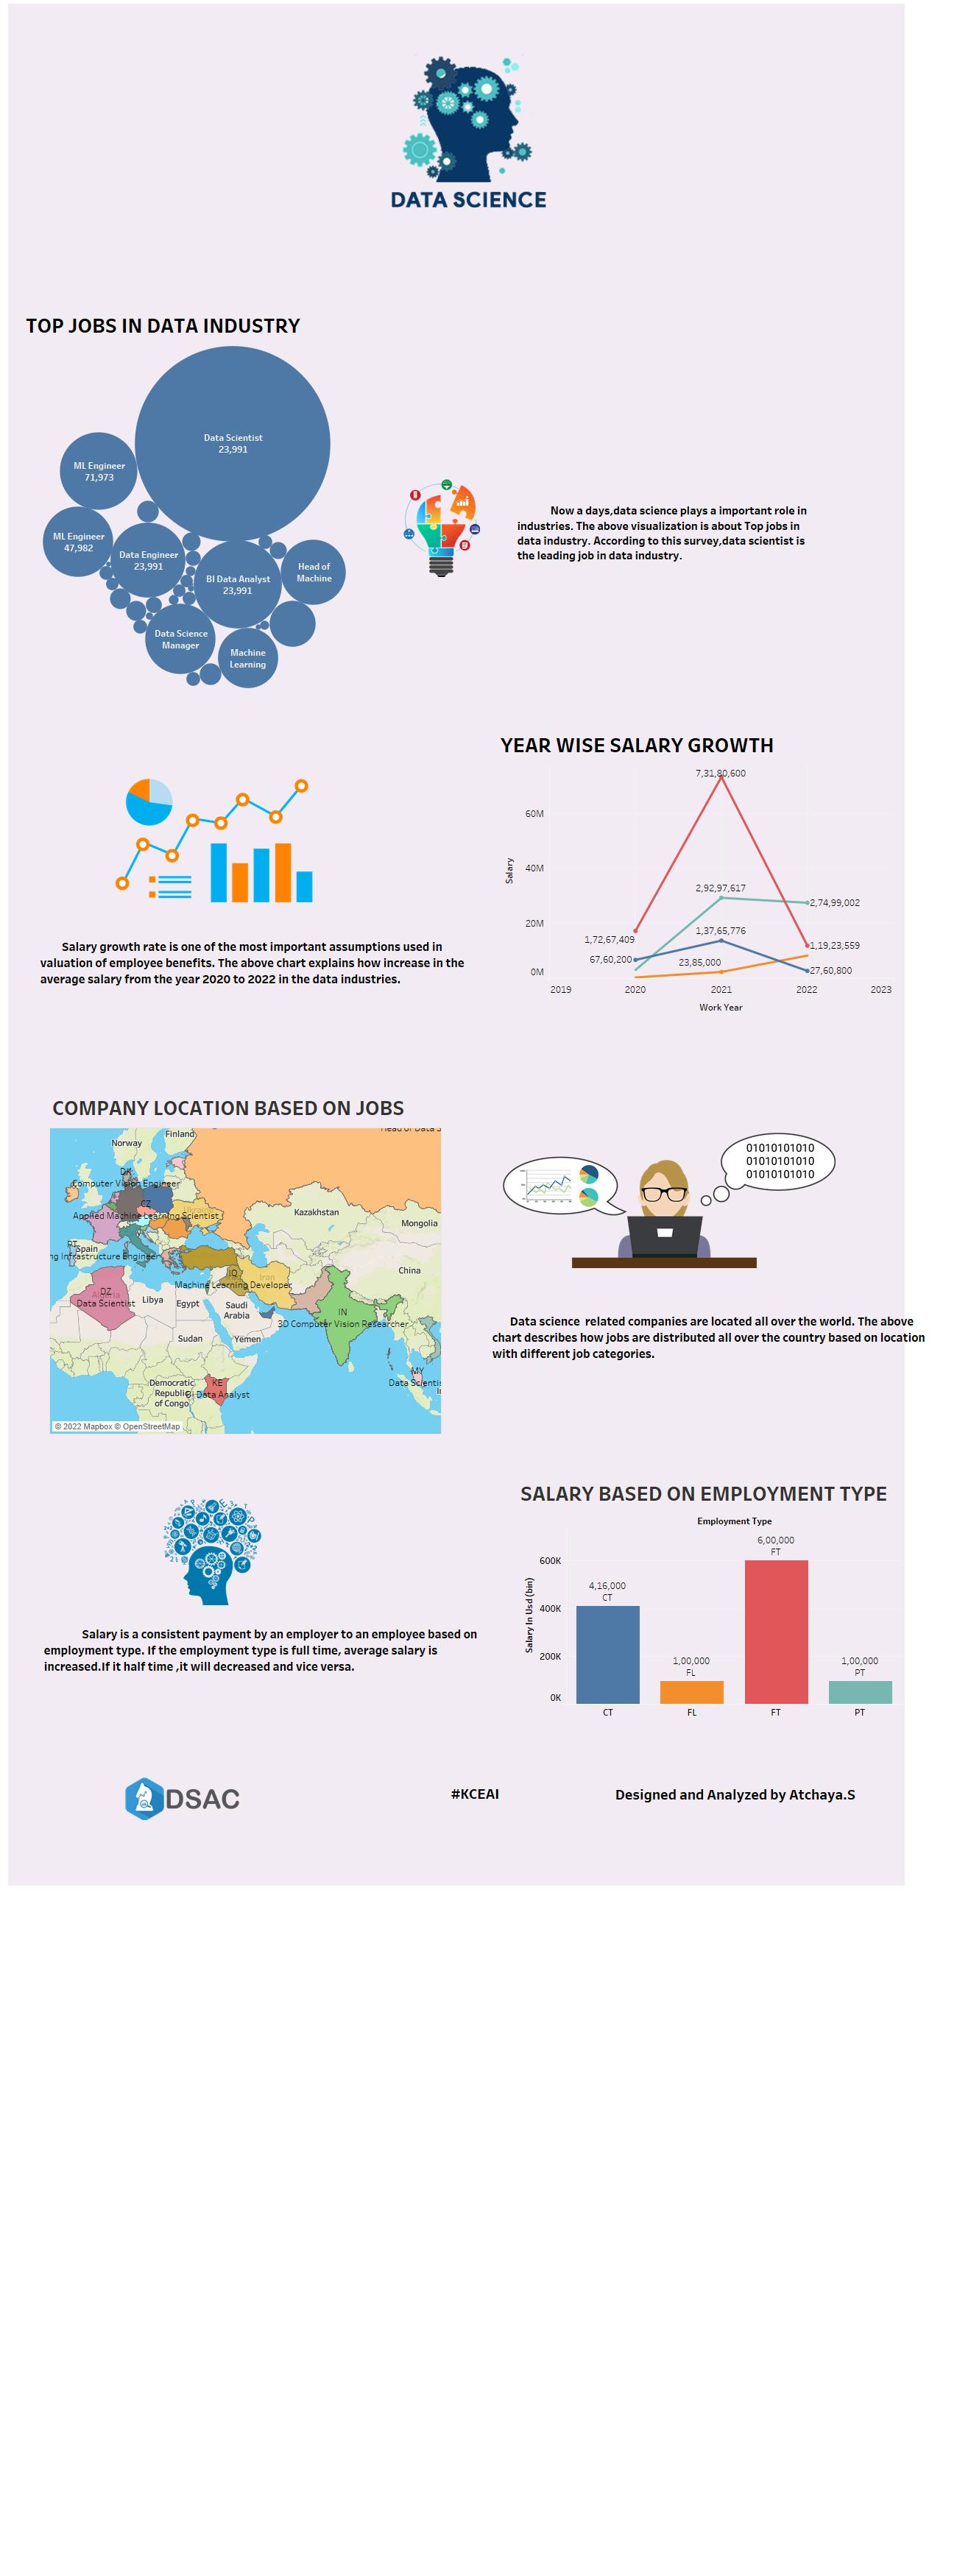

What the dashboard file says about the page in this screenshot:
{"tool":"tableau","page":{"name":"Data Science","canvas":[1300,3500],"ordinal":0},"visuals":[{"type":"blank","box":[11,5,1218,2557]},{"type":"image","param":"Image/data-science-logo-icon.png","box":[375.4,16.6,873.4,357]},{"type":"worksheet","title":"Top jobs","mark":"Circle","box":[31,417,520,518]},{"type":"text","box":[700,632,406,186]},{"type":"image","param":"Image/imgbin_data-science-analytics-data-analysis-big-data-png.png","box":[548,651,170,133]},{"type":"worksheet","title":"Year wise salary growth","mark":"Automatic","rows":["salary"],"cols":["work_year"],"box":[675,987,539,398]},{"type":"image","param":"Image/favpng_analytics-data-analysis-data-science.png","box":[148,1034,417,216]},{"type":"text","box":[52,1227,605,162]},{"type":"worksheet","title":"Company location","mark":"Multipolygon","box":[67,1480,533,469]},{"type":"image","param":"Image/kisspng-data-analysis-analyst-big-data-data-science-analyst-png-hd-5a756bf","box":[683,1539,452,217]},{"type":"text","box":[666,1713,618,208]},{"type":"worksheet","title":"salary based on employment type","mark":"Bar","rows":["Salary In Usd (bin)"],"cols":["employment_type"],"box":[703,2004,523,332]},{"type":"image","param":"Image/Vector-Brain-Gears-Transparent-PNG.png","box":[213,2023,391,158]},{"type":"text","box":[57,2162,595,160]},{"type":"text","box":[833,2385,396,104]},{"type":"image","param":"Image/DSAC-logo.png","box":[170,2415,290,58]},{"type":"text","box":[610,2424,82,25]}]}

Visuals, with their boxes in screenshot pixels (x1, y1, x2, y2), scaled from the page's 1300x3500 canvas onto the 957x2576 screenshot:
blank: 8:4:905:1886
image: 276:13:919:275
"Top jobs" worksheet (Circle marks): 23:307:406:688
text: 515:465:814:602
image: 403:479:529:577
"Year wise salary growth" worksheet: 497:726:894:1019
image: 109:761:416:920
text: 38:903:484:1022
"Company location" worksheet (Multipolygon marks): 49:1089:442:1434
image: 503:1133:836:1292
text: 490:1261:945:1414
"salary based on employment type" worksheet (Bar marks): 518:1475:903:1719
image: 157:1489:445:1605
text: 42:1591:480:1709
text: 613:1755:905:1832
image: 125:1777:339:1820
text: 449:1784:509:1802
